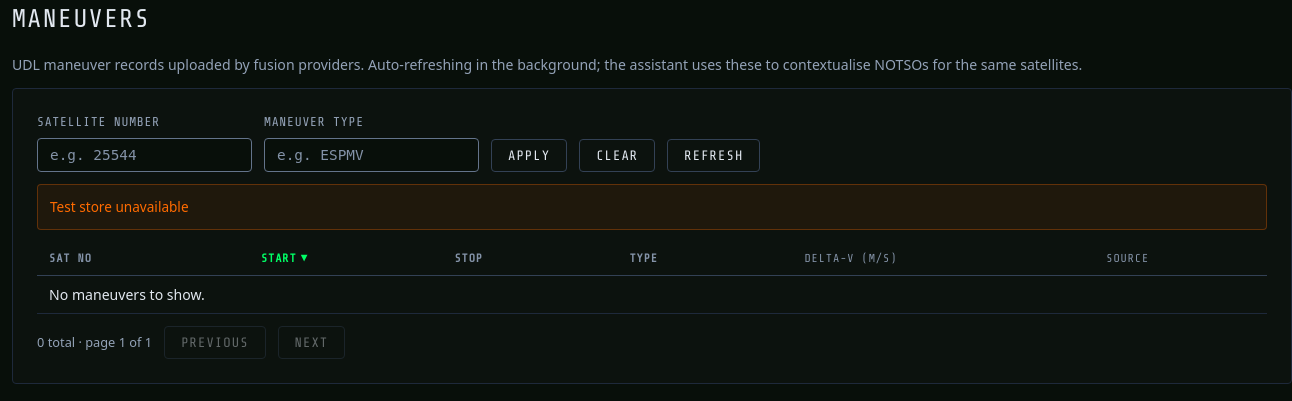
Test: the maneuvers page › says why the list cannot load, or that it failed, until a later load succeeds
Expected: the text "Test store unavailable" is shown, [37,184,1267,230]
Click the button "Refresh": [714, 155] box [667,139,760,172]
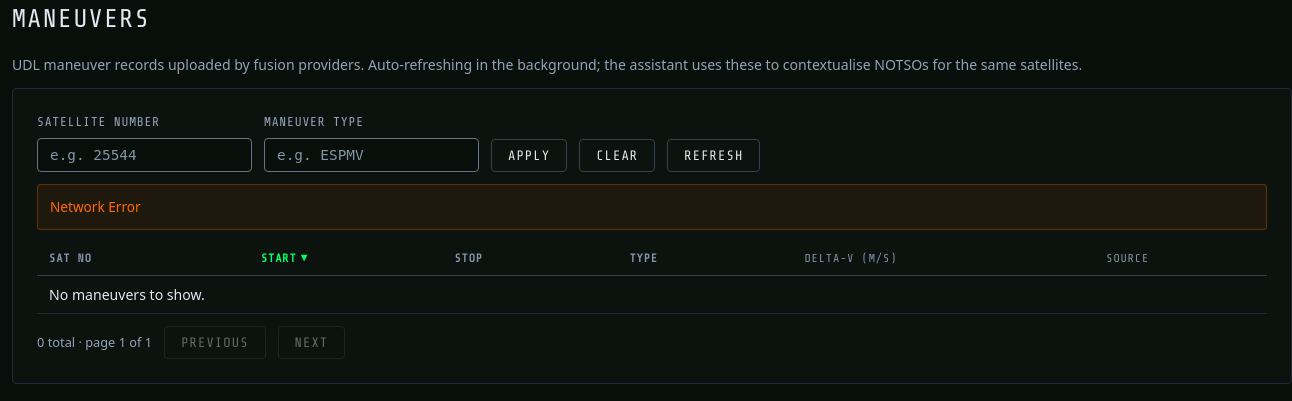
Expected: the text "Network Error" is shown, [37,184,1267,230]
Expected: the text "Test store unavailable" is gone
Click the button "Refresh": [714, 155] box [667,139,760,172]
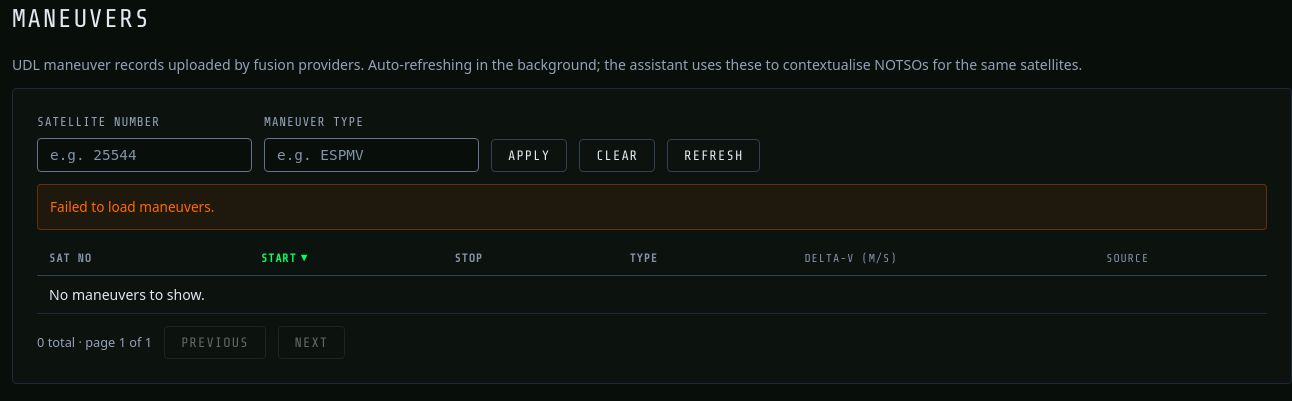
Expected: the text "Failed to load maneuvers." is shown, [37,184,1267,230]
Click the button "Refresh": [714, 155] box [667,139,760,172]
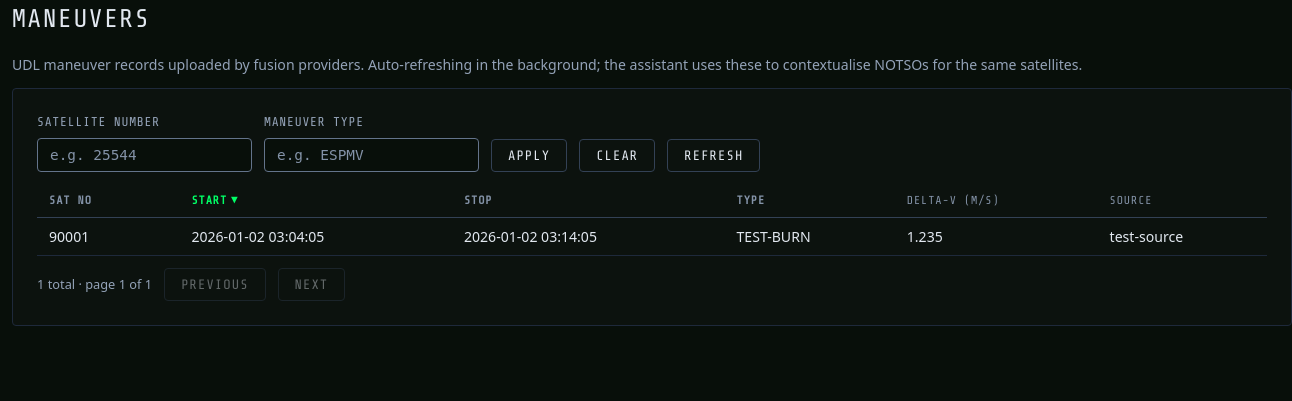
Expected: the text "90001" is shown, [37,218,179,256]
Expected: the text "Failed to load maneuvers." is gone
